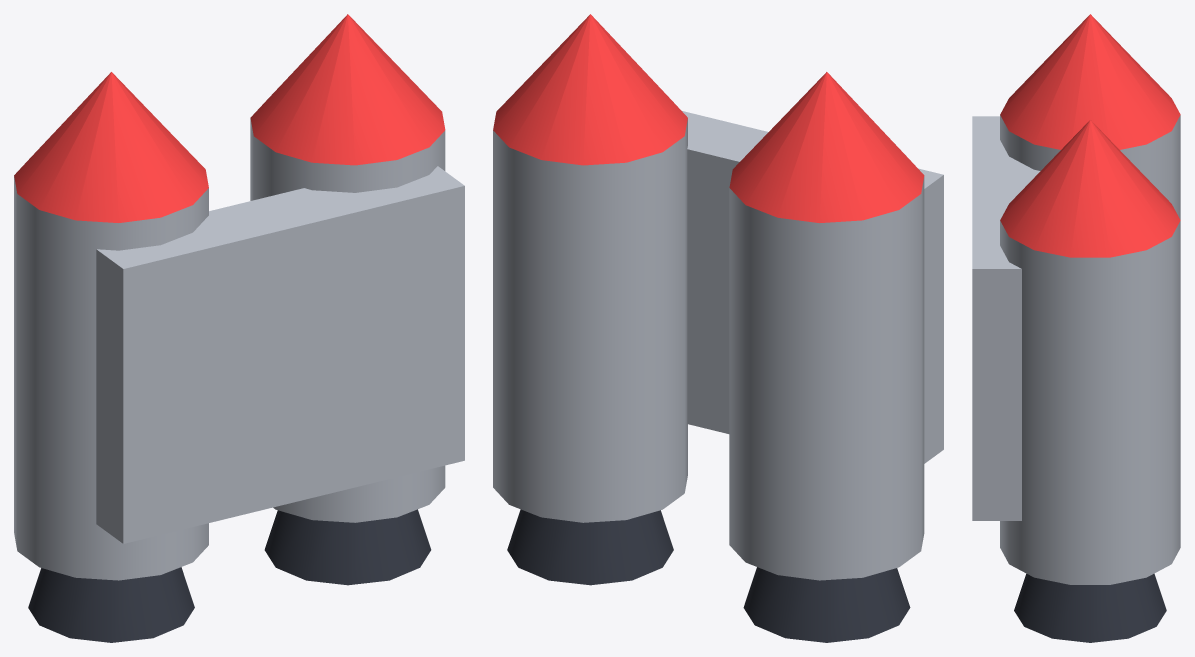
File: jetpack.glb
3 renders of one model, left to right at view 1: azimuth 30°, elevation 25°; view 2: azimuth 150°, elevation 25°; view 3: azimuth 270°, elevation 25°, orthographic. The views are drawn at different scales.
Visible parts, largest first — view 1: part0, part1, part2; view 2: part0, part1, part2; view 3: part0, part1, part2.
Boxes of the visible parts, left/top/right/bottom form: part0: left=14, top=118, right=464, bottom=580; part1: left=14, top=14, right=445, bottom=222; part2: left=28, top=509, right=431, bottom=642; part0: left=493, top=111, right=943, bottom=580; part1: left=493, top=14, right=924, bottom=223; part2: left=507, top=509, right=910, bottom=642; part0: left=972, top=115, right=1180, bottom=584; part1: left=1000, top=14, right=1180, bottom=257; part2: left=1014, top=573, right=1166, bottom=642.
Bounding box in the file's own units: 0.3067 × 0.39 × 0.15.
